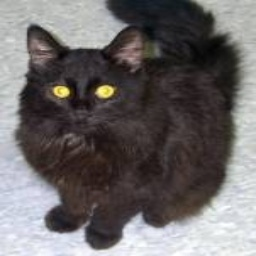cat: (17, 4, 231, 249)
